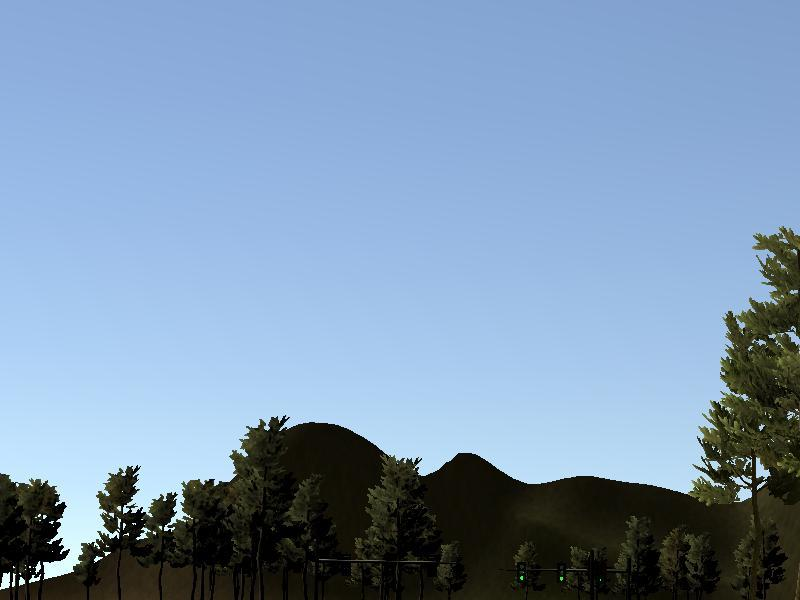Green: (517, 562, 527, 584), (557, 562, 566, 584)
